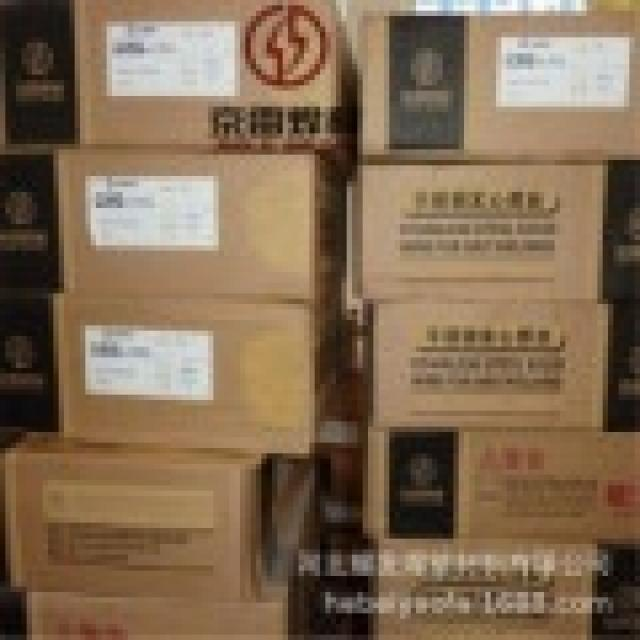box: (24, 459, 335, 634), (0, 427, 313, 596), (50, 283, 346, 459), (76, 1, 358, 173), (51, 140, 351, 298), (352, 2, 635, 161), (349, 294, 608, 427), (353, 161, 606, 296), (362, 414, 635, 539), (357, 531, 597, 635), (317, 509, 364, 631), (317, 394, 365, 512)
